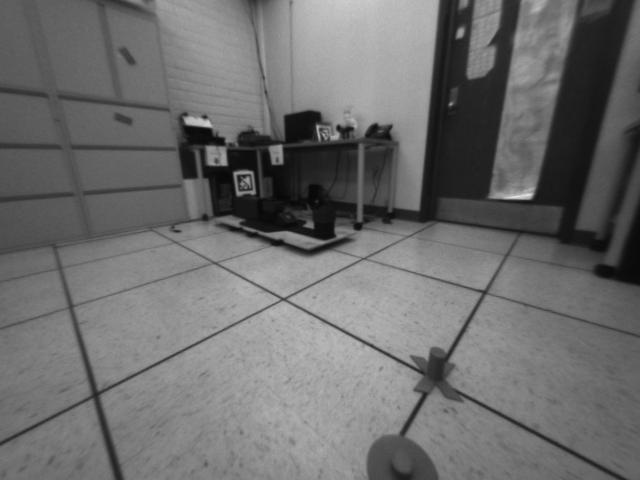X: (408, 346, 469, 404)
